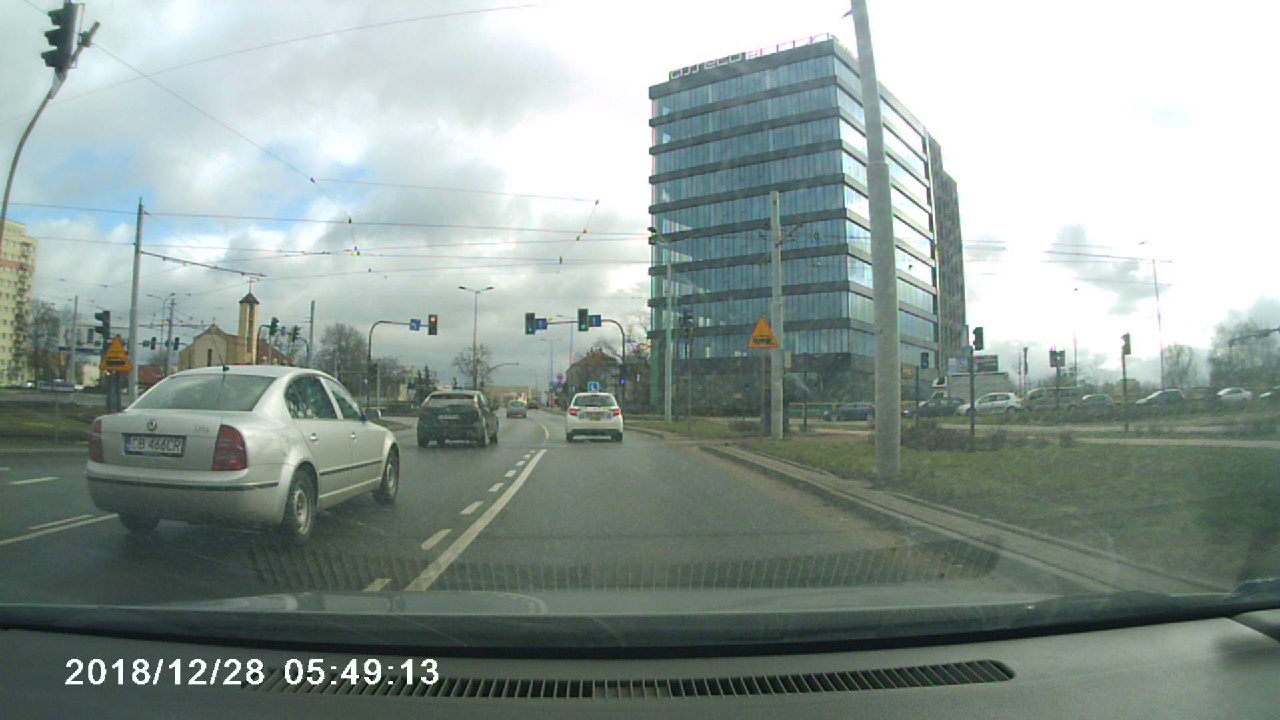A21: (744, 315, 784, 352), (98, 336, 135, 374)
